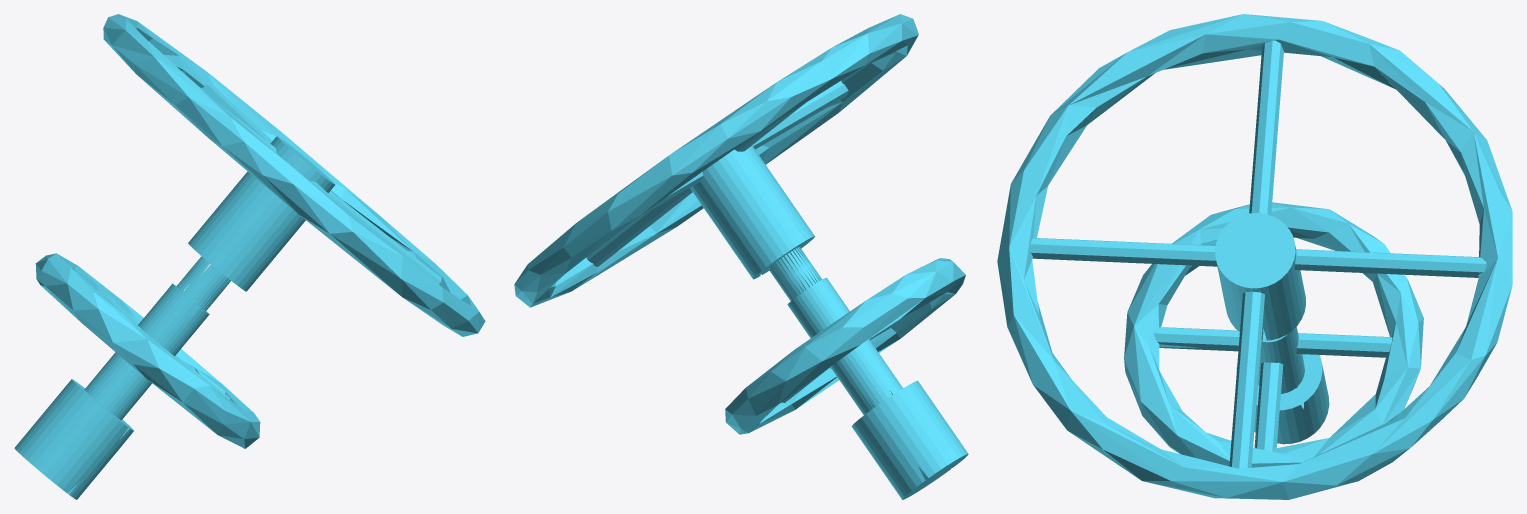
The model's file is console_ship.fbx.
3 renders of one model, left to right at view 1: azimuth 30°, elevation 25°; view 2: azimuth 150°, elevation 25°; view 3: azimuth 270°, elevation 25°, orthographic. The views are drawn at different scales.
Parts seen in each view (by area): view 1: Cylinder; view 2: Cylinder; view 3: Cylinder.
Part boxes in pixels (x1,y1,x2,y2): Cylinder: [14, 14, 485, 499]; Cylinder: [514, 14, 968, 499]; Cylinder: [997, 14, 1512, 499].
Size of the model in its own units: 0.8061 by 0.8111 by 0.8181.
